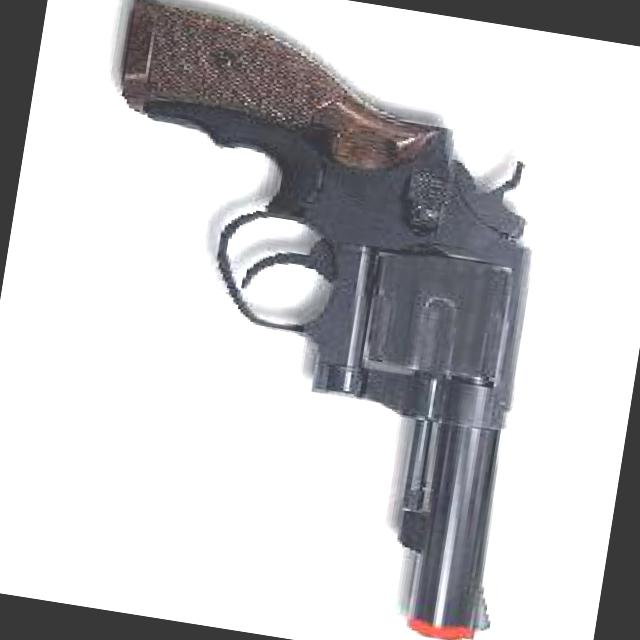handgun: (36, 0, 588, 639)
